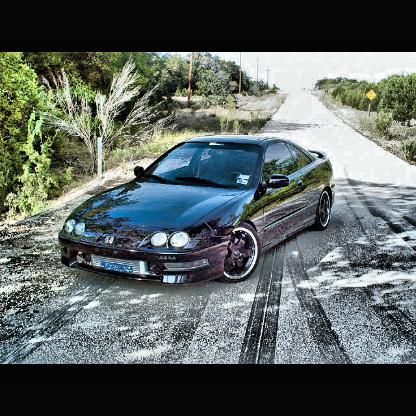Acura Integra Type R 2001: (59, 136, 335, 287)
